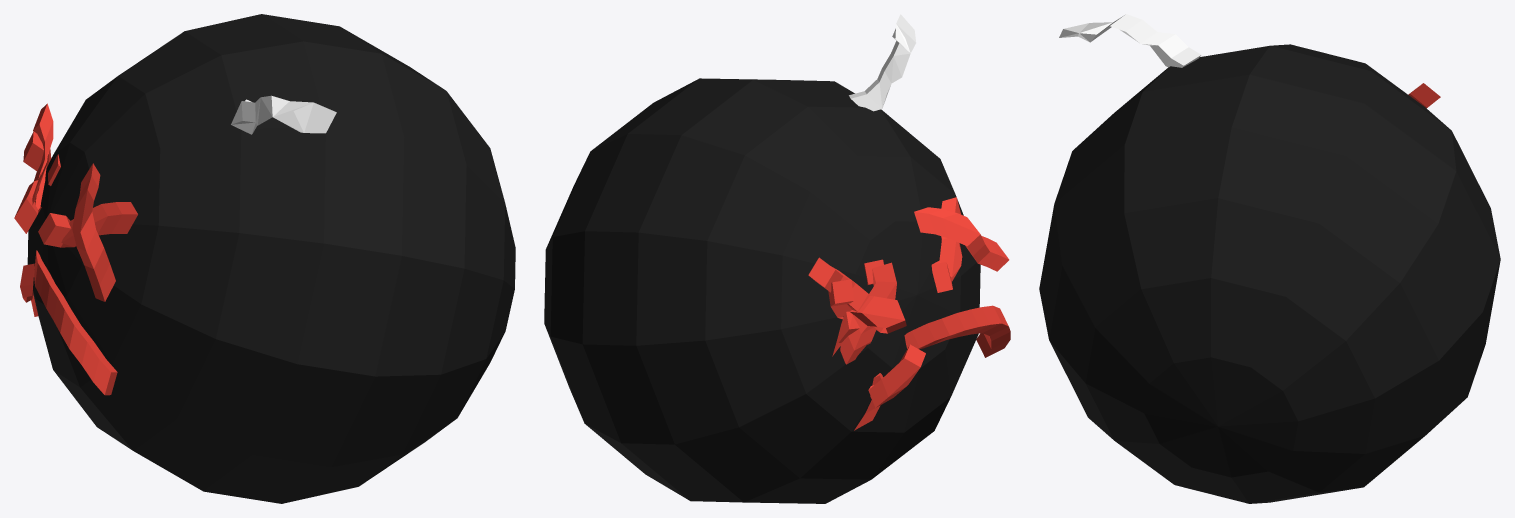
Rendered from Grenade_Riley.fbx.
3 views of the same model, side by side, from view 1: azimuth 30°, elevation 25°; view 2: azimuth 150°, elevation 25°; view 3: azimuth 270°, elevation 25° (orthographic). The views are drawn at different scales.
Parts seen in each view (by area): view 1: mesh_631183028, group_1338451920, group_1109177520, group_1492272361, group_1315286945, group_1597839661; view 2: mesh_631183028, group_1338451920, group_1597839661, group_1109177520, group_859342492, group_1492272361, group_1864935194, group_1315286945; view 3: mesh_631183028, group_1492272361.
Boxes of the visible parts, left/top/right/bottom form: mesh_631183028: left=27, top=14, right=515, bottom=503; group_1338451920: left=31, top=250, right=117, bottom=395; group_1109177520: left=72, top=163, right=115, bottom=301; group_1492272361: left=231, top=95, right=336, bottom=134; group_1315286945: left=38, top=202, right=137, bottom=247; group_1597839661: left=14, top=103, right=53, bottom=233; mesh_631183028: left=544, top=78, right=980, bottom=503; group_1338451920: left=854, top=305, right=1010, bottom=430; group_1597839661: left=808, top=257, right=906, bottom=333; group_1109177520: left=914, top=207, right=1009, bottom=271; group_859342492: left=832, top=259, right=896, bottom=364; group_1492272361: left=849, top=14, right=916, bottom=111; group_1864935194: left=868, top=344, right=925, bottom=407; group_1315286945: left=931, top=197, right=962, bottom=292; mesh_631183028: left=1039, top=44, right=1500, bottom=503; group_1492272361: left=1059, top=14, right=1201, bottom=67.
Size of the model in its own units: 30.68 by 29.95 by 28.72.
